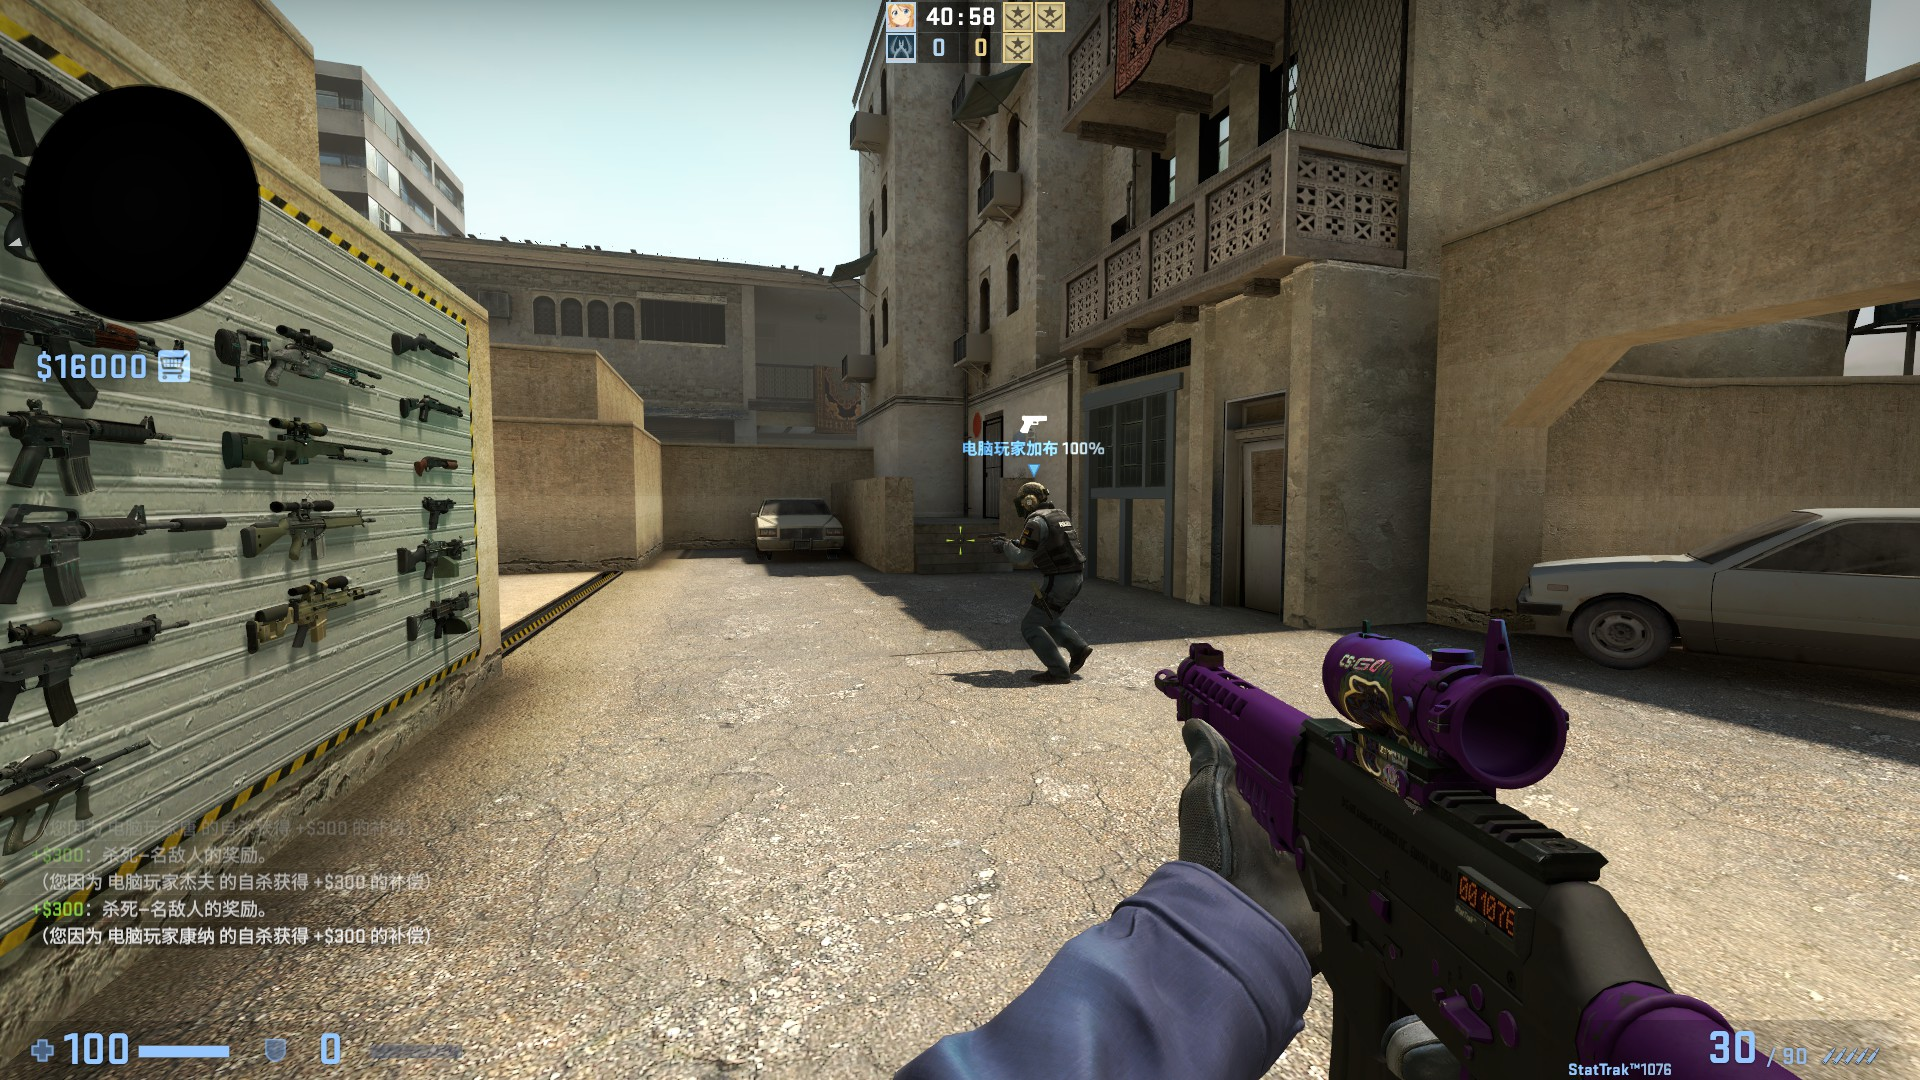head: (1012, 477, 1056, 518)
